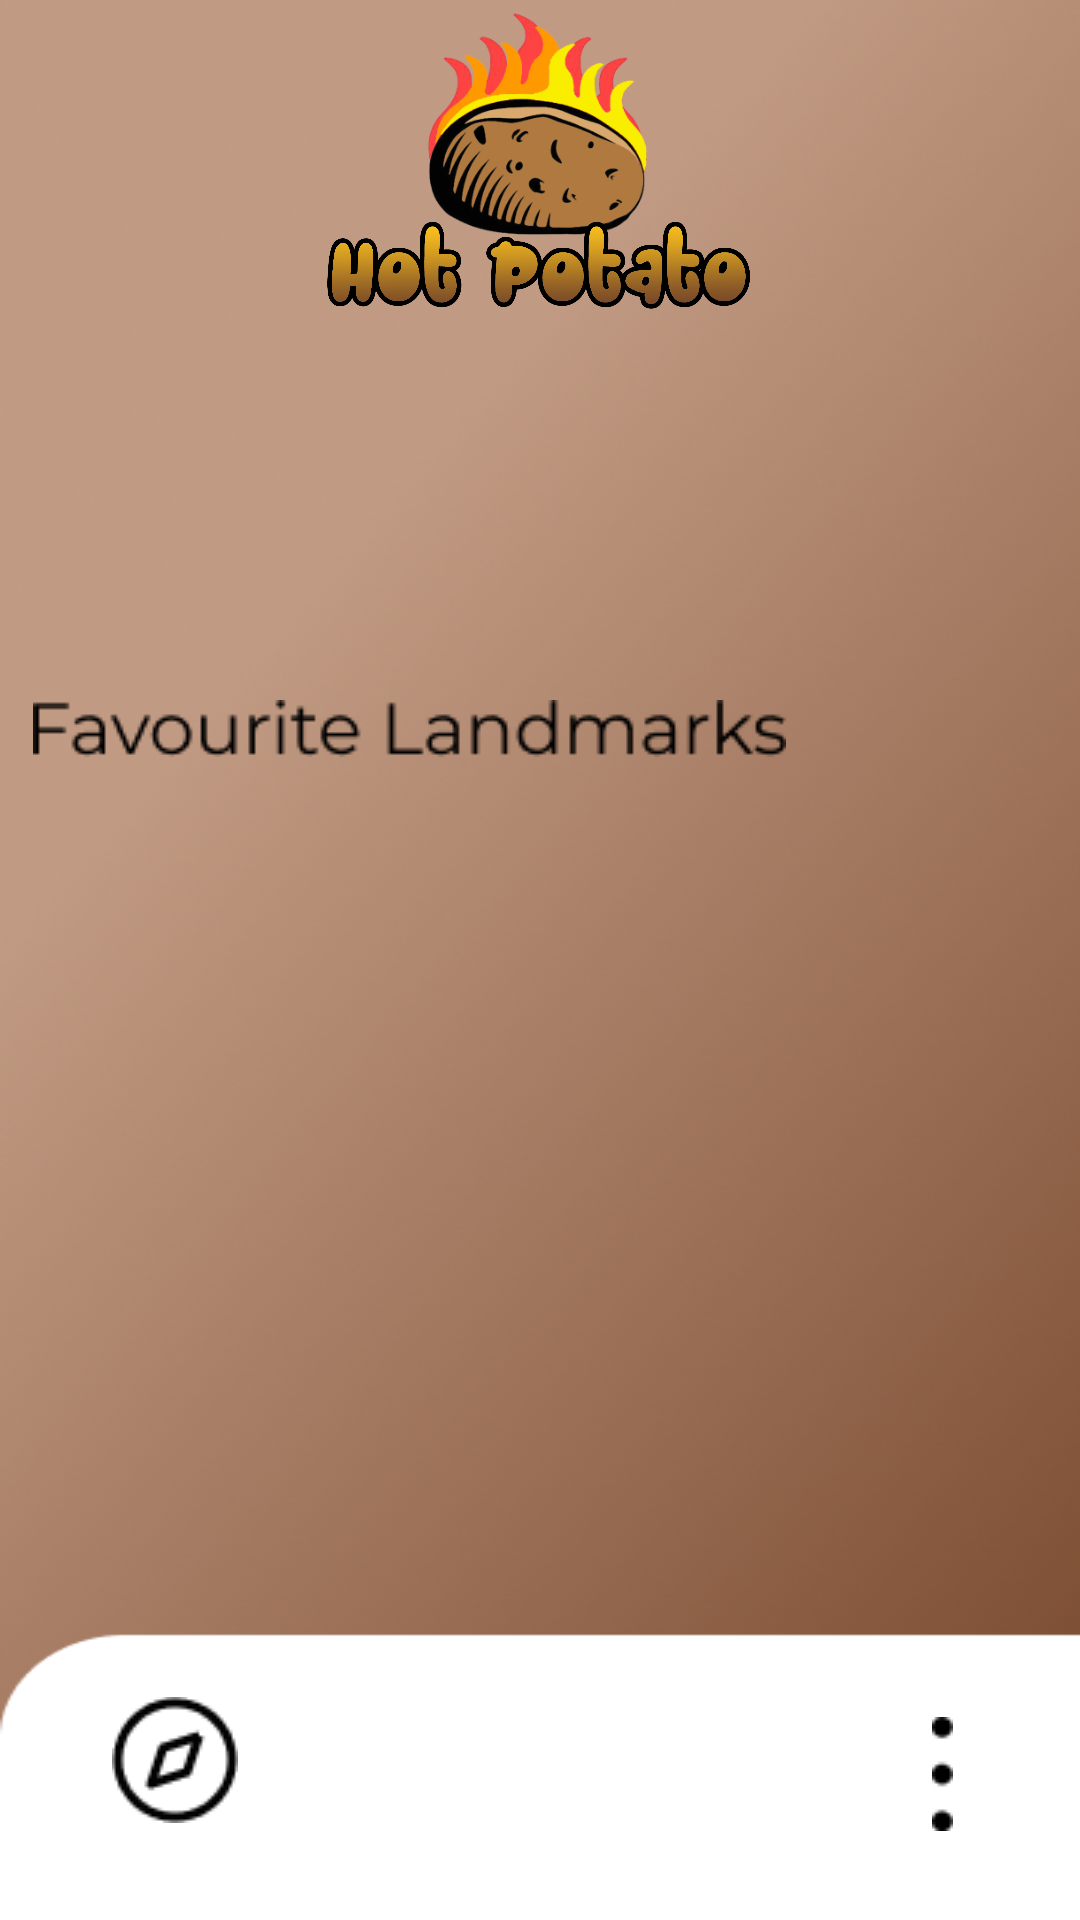

Named icons in this screenshot (1080 × 1920) and their bounding boxes, (x1, y1, x2, y2):
barcomp: (112, 1697, 238, 1823)
menuopt: (932, 1717, 953, 1831)
